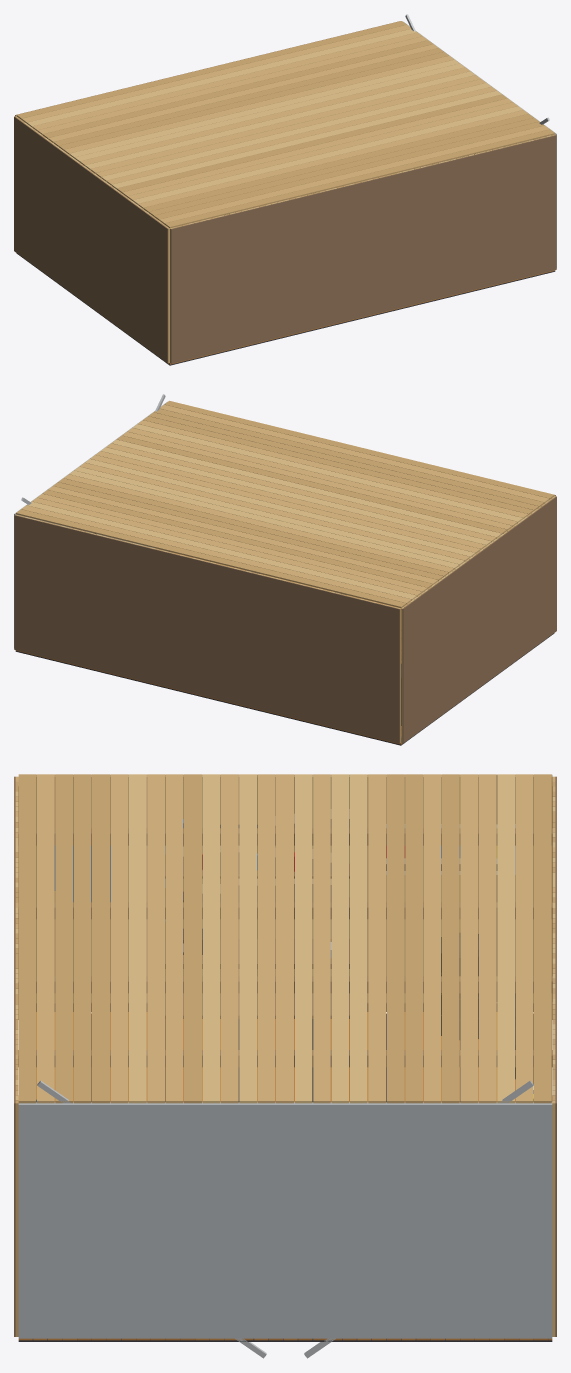
The model's file is garage.glb.
The picture shows the model from 3 angles, top to bottom: view 1: azimuth 30°, elevation 25°; view 2: azimuth 150°, elevation 25°; view 3: azimuth 270°, elevation 25°; orthographic projection. The views are drawn at different scales.
Visible parts, largest first — view 1: G_R_WoodDark, G_T_WoodA, G_B_WoodDark, G_T_WoodB, G_T_WoodC, G_C_Dark, G_C_FloorA; view 2: G_L_WoodDark, G_T_WoodA, G_B_WoodDark, G_T_WoodB, G_T_WoodC, G_C_Dark, G_C_FloorB; view 3: G_F_Gate, G_T_WoodA, G_T_WoodB, G_T_WoodC, G_T_WoodDark, G_B_WoodC, G_C_FloorA, G_C_Dark, G_C_FloorB, G_B_WoodDark, G_R_WoodB, G_B_WoodB (+5 smaller).
Part boxes in pixels (x1,y1,x2,y2): G_R_WoodDark: [170, 135, 556, 363]; G_T_WoodA: [21, 25, 549, 224]; G_B_WoodDark: [14, 116, 168, 363]; G_T_WoodB: [16, 21, 555, 228]; G_T_WoodC: [27, 29, 522, 204]; G_C_Dark: [16, 253, 555, 365]; G_C_FloorA: [168, 176, 554, 364]; G_L_WoodDark: [14, 515, 400, 743]; G_T_WoodA: [21, 404, 549, 604]; G_B_WoodDark: [401, 496, 556, 743]; G_T_WoodB: [16, 400, 554, 607]; G_T_WoodC: [26, 424, 522, 600]; G_C_Dark: [15, 633, 554, 745]; G_C_FloorB: [16, 610, 402, 744]; G_F_Gate: [18, 1103, 552, 1338]; G_T_WoodA: [37, 774, 533, 1103]; G_T_WoodB: [18, 774, 551, 1103]; G_T_WoodC: [129, 774, 514, 1103]; G_T_WoodDark: [18, 828, 552, 1067]; G_B_WoodC: [91, 775, 515, 1001]; G_C_FloorA: [18, 1012, 533, 1340]; G_C_Dark: [18, 1013, 552, 1341]; G_C_FloorB: [77, 1012, 552, 1340]; G_B_WoodDark: [36, 774, 552, 1018]; G_R_WoodB: [15, 781, 18, 1336]; G_B_WoodB: [36, 775, 533, 1001].
Bounding box in the file's own units: 8.49 × 3.32 × 5.9.
